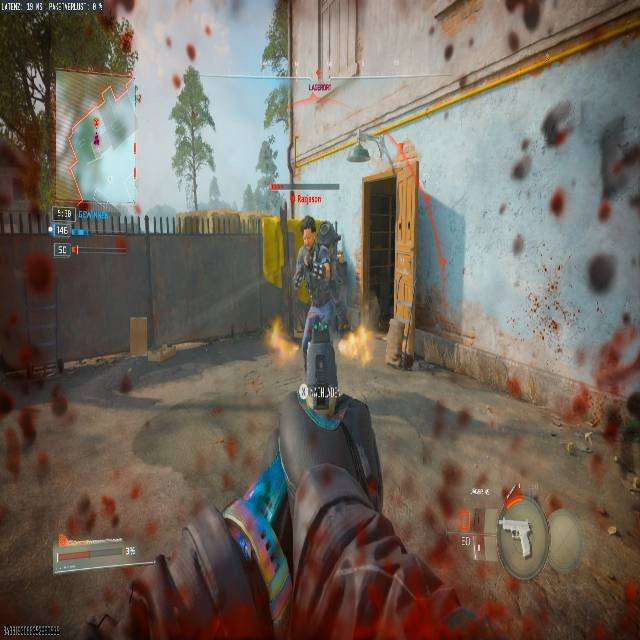head: (308, 215, 341, 243), (300, 216, 318, 240), (302, 214, 314, 228)
player: (289, 213, 352, 353), (301, 214, 339, 279)
